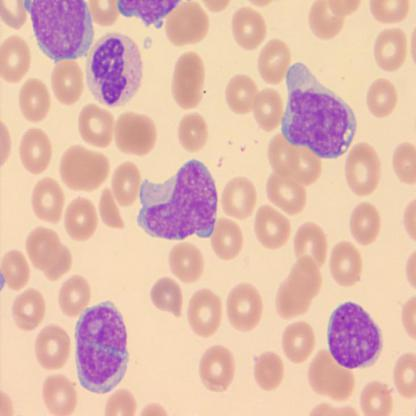Blast: (279, 60, 358, 162), (133, 156, 220, 242), (71, 299, 131, 395), (325, 299, 384, 373)
